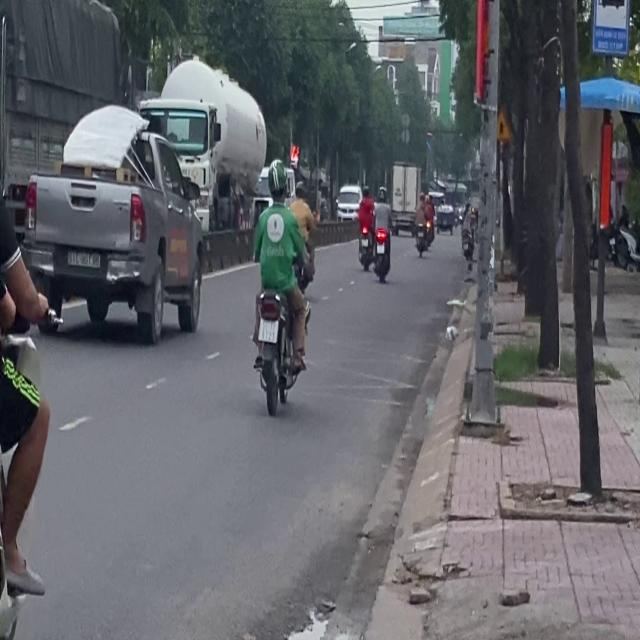helmet: (266, 158, 288, 202)
licenseplate: (248, 158, 311, 412)
nohelmet: (258, 319, 277, 341)
